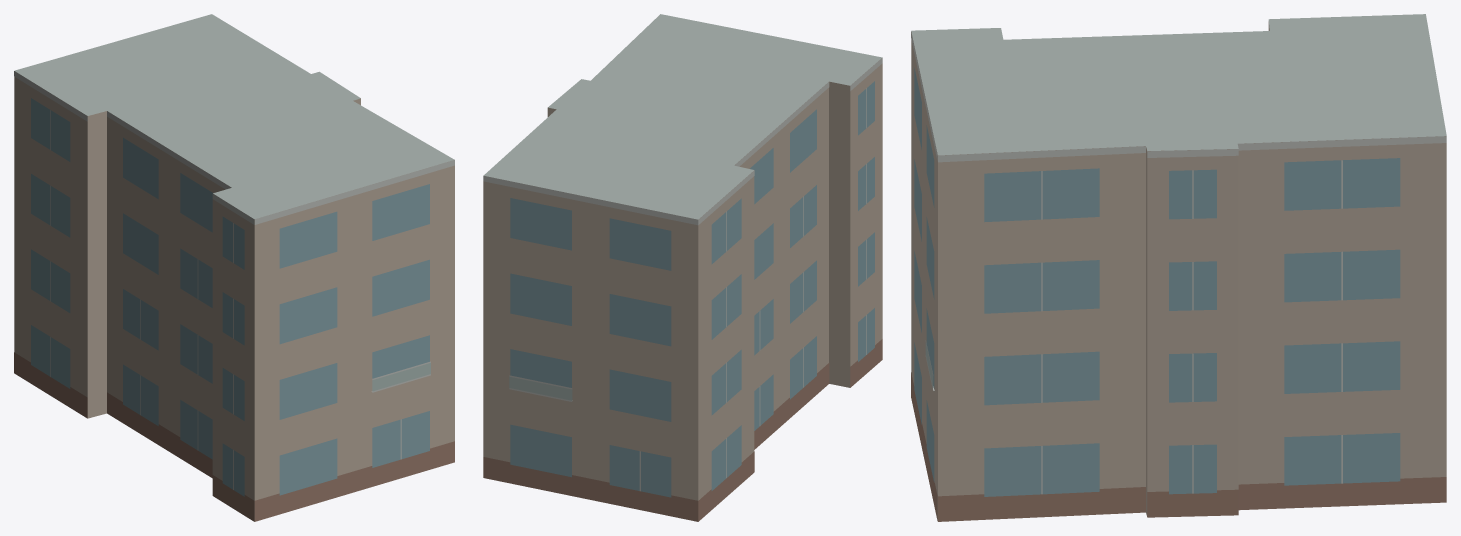
The model's file is survey-upis-32628616.glb.
The picture shows the model from 3 angles, left to right: view 1: azimuth 30°, elevation 25°; view 2: azimuth 150°, elevation 25°; view 3: azimuth 270°, elevation 25°; orthographic projection. The views are drawn at different scales.
Parts seen in each view (by area): view 1: survey-upis-32628616.tmp; view 2: survey-upis-32628616.tmp; view 3: survey-upis-32628616.tmp.
Boxes of the visible parts, bbox=[...] form: survey-upis-32628616.tmp: bbox=[14, 14, 454, 521]; survey-upis-32628616.tmp: bbox=[483, 14, 882, 521]; survey-upis-32628616.tmp: bbox=[911, 14, 1446, 521].
Bounding box in the file's own units: 10.69 × 12.9 × 17.1.
